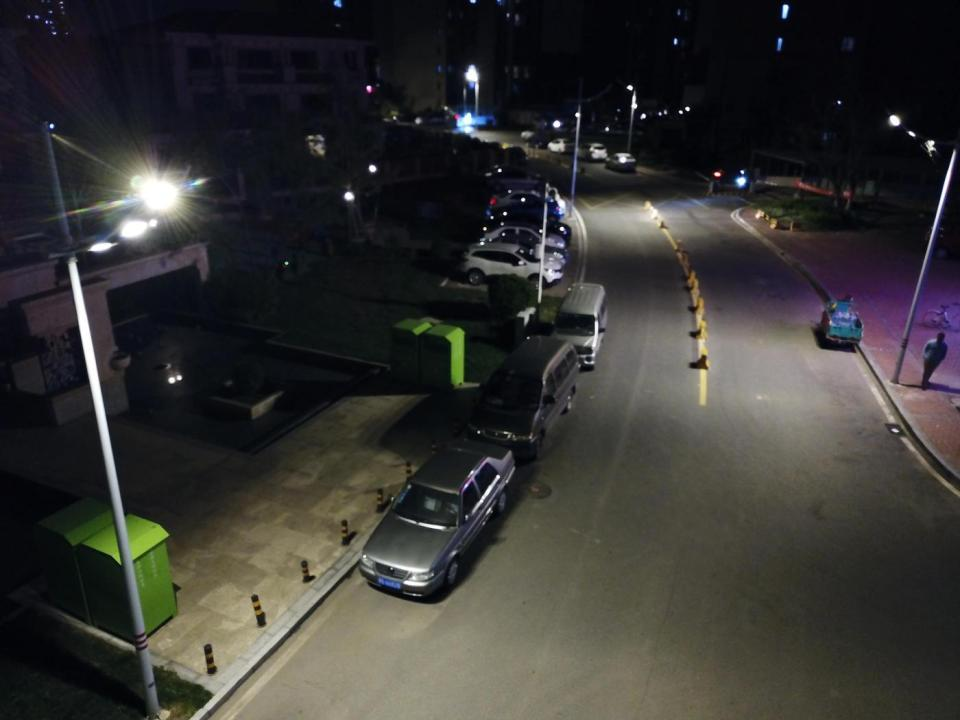car: (355, 432, 517, 603), (457, 242, 564, 291), (489, 235, 570, 272), (477, 223, 567, 256), (480, 215, 570, 248), (490, 189, 558, 226), (488, 200, 560, 226), (485, 168, 552, 195), (486, 165, 541, 191), (711, 162, 749, 192), (573, 141, 608, 163), (523, 134, 556, 151), (605, 152, 636, 170), (546, 138, 576, 155), (414, 113, 450, 126)
van: (470, 332, 581, 461), (550, 284, 610, 369)
